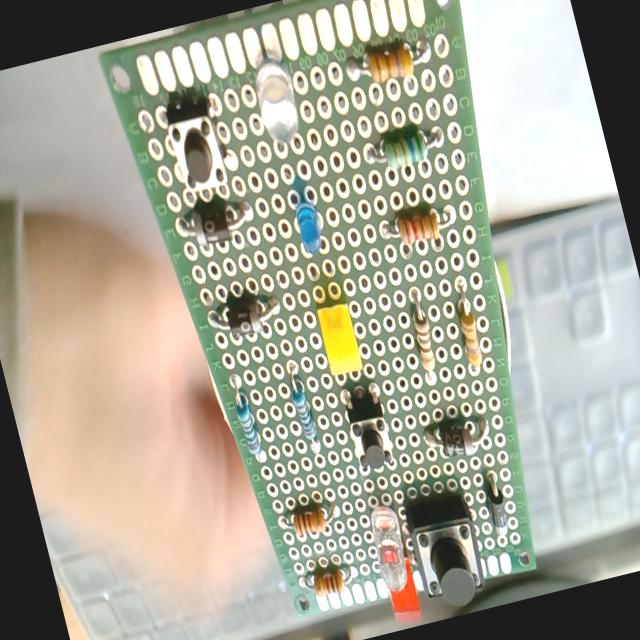diode: (175, 194, 259, 256), (204, 288, 285, 346), (422, 411, 494, 464), (480, 472, 513, 538)
led: (247, 55, 307, 150), (364, 502, 416, 596), (314, 301, 364, 378), (378, 556, 426, 628), (287, 186, 331, 258)
resistor: (229, 360, 327, 469), (344, 34, 432, 88), (362, 120, 446, 172), (224, 370, 266, 464), (380, 202, 456, 252), (448, 278, 487, 371), (288, 380, 323, 454), (406, 301, 438, 372), (299, 562, 356, 601), (290, 502, 332, 540)
switch: (401, 489, 493, 614), (160, 92, 234, 200), (340, 385, 398, 475)
